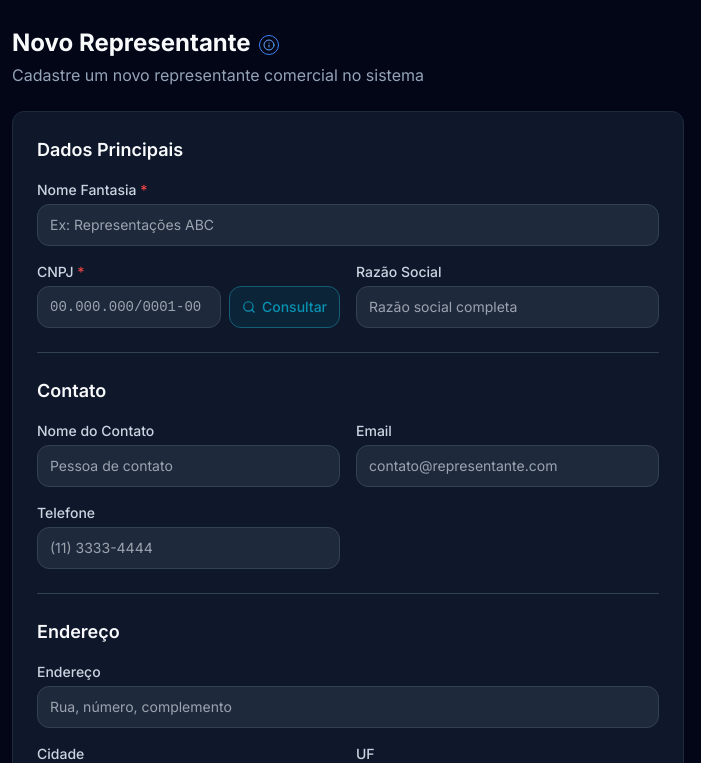
Scenario: NovoRepresentantePage › consulta CNPJ e preenche os dados automaticamente
This screenshot has width=701, height=763.
Step 1. Type "11222333000144" into the field with placeholder "00.000.000/0001-00" → (129, 307), box 37,286 -> 221,328
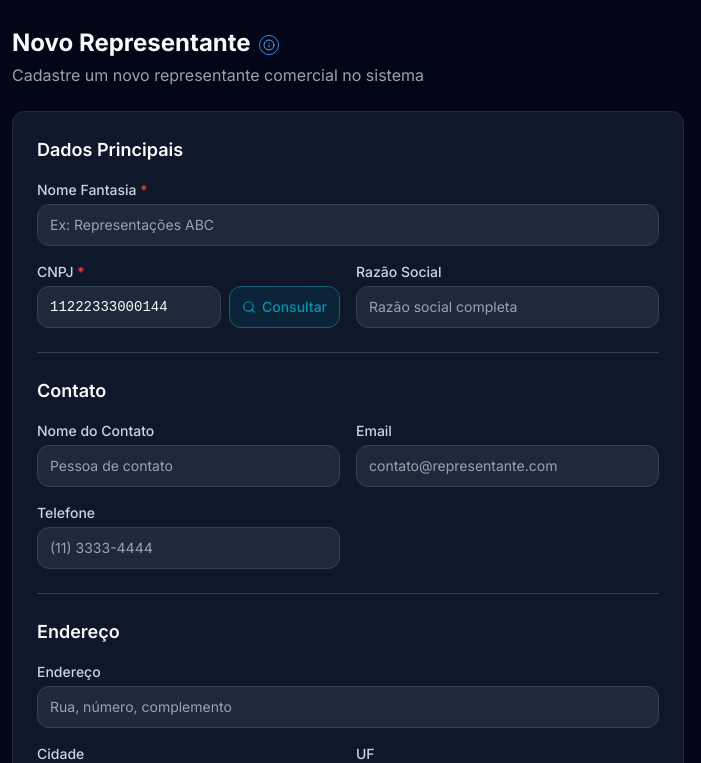
Step 2. Click the button "Consultar" → (284, 307), box 229,286 -> 340,328
(page scrolled)
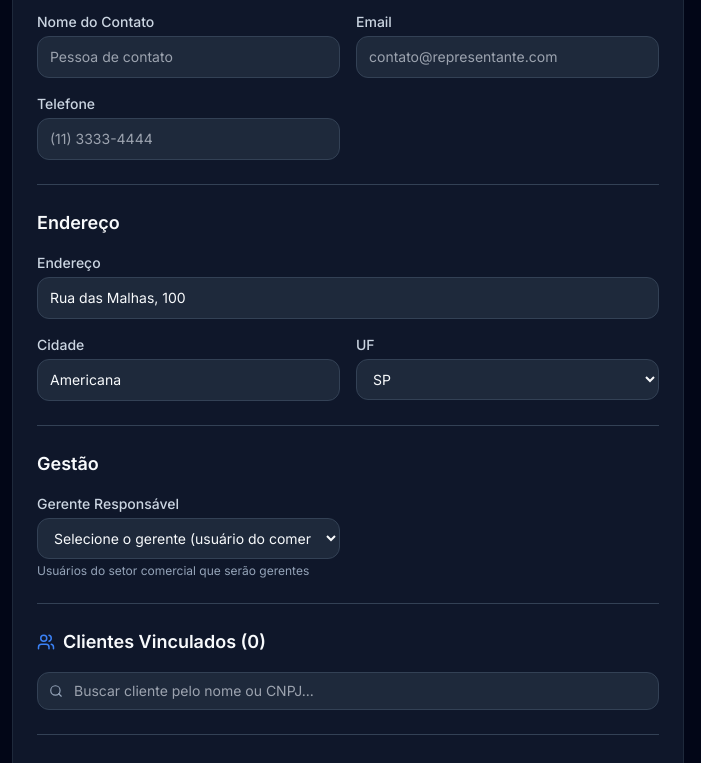
Expected: the 1st field showing "Rua das Malhas, 100" is shown, 37,277 -> 659,319
Expected: the field showing "Americana" below "Cidade" is shown, 37,359 -> 340,401
Expected: the dropdown showing "SP" below "UF" is shown, 356,359 -> 659,400
